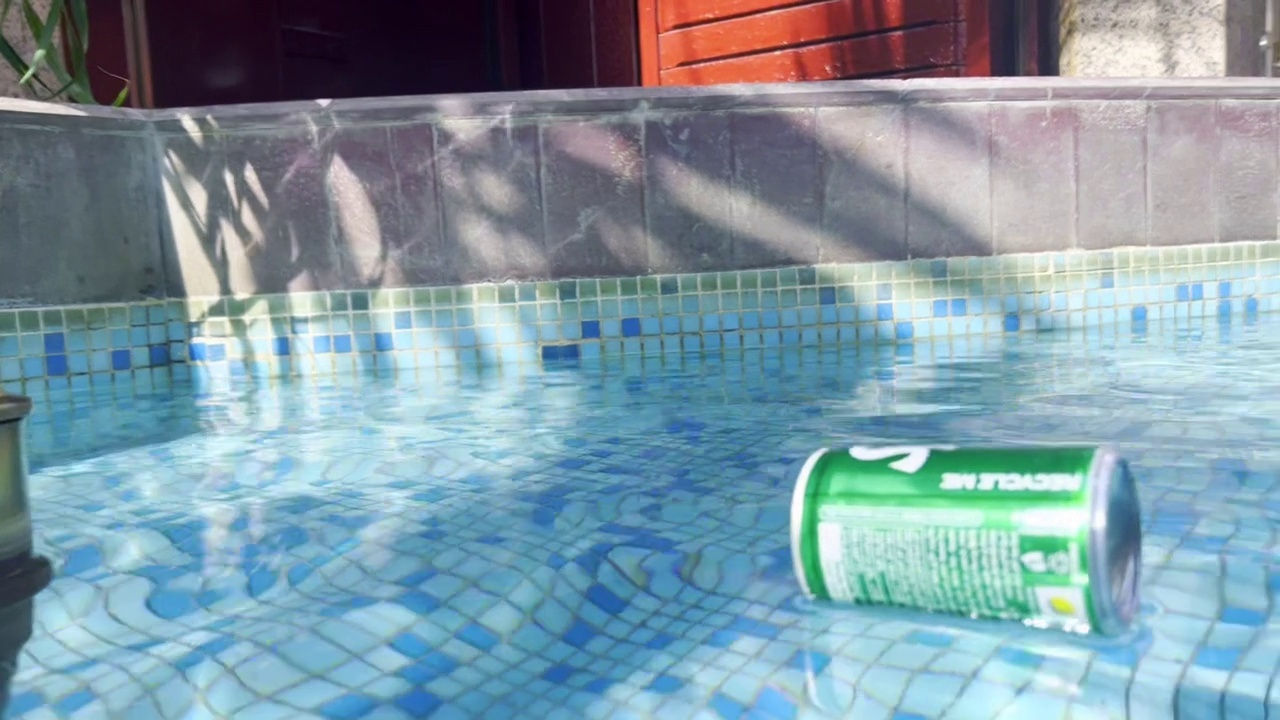debris: (782, 416, 1148, 649)
